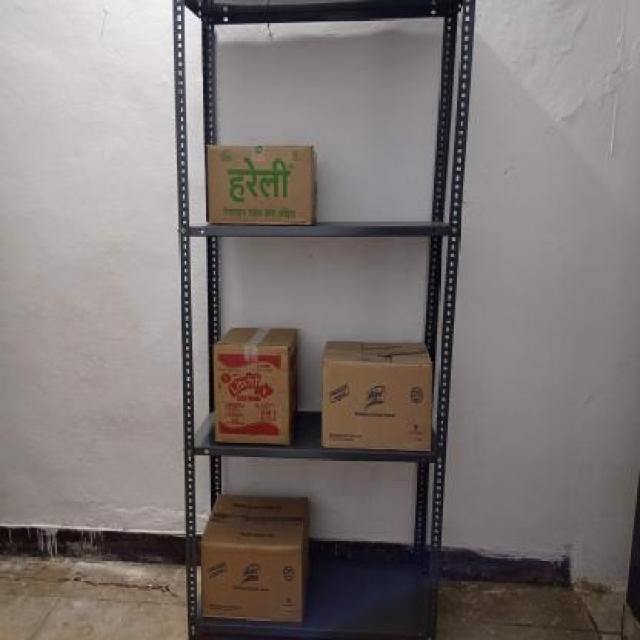box: (204, 143, 314, 228), (322, 366, 436, 448), (200, 542, 300, 618), (218, 348, 291, 448)
